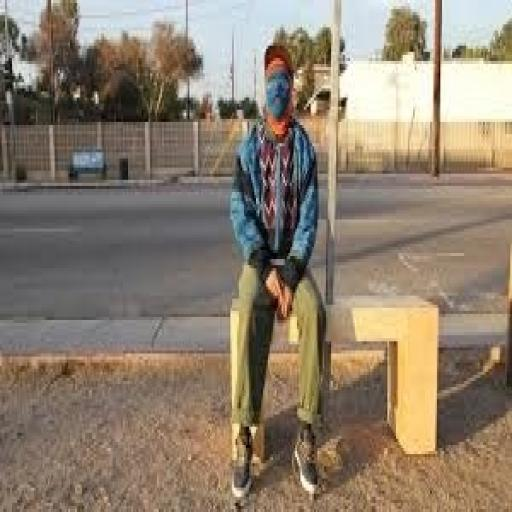sitting: (224, 40, 331, 502)
